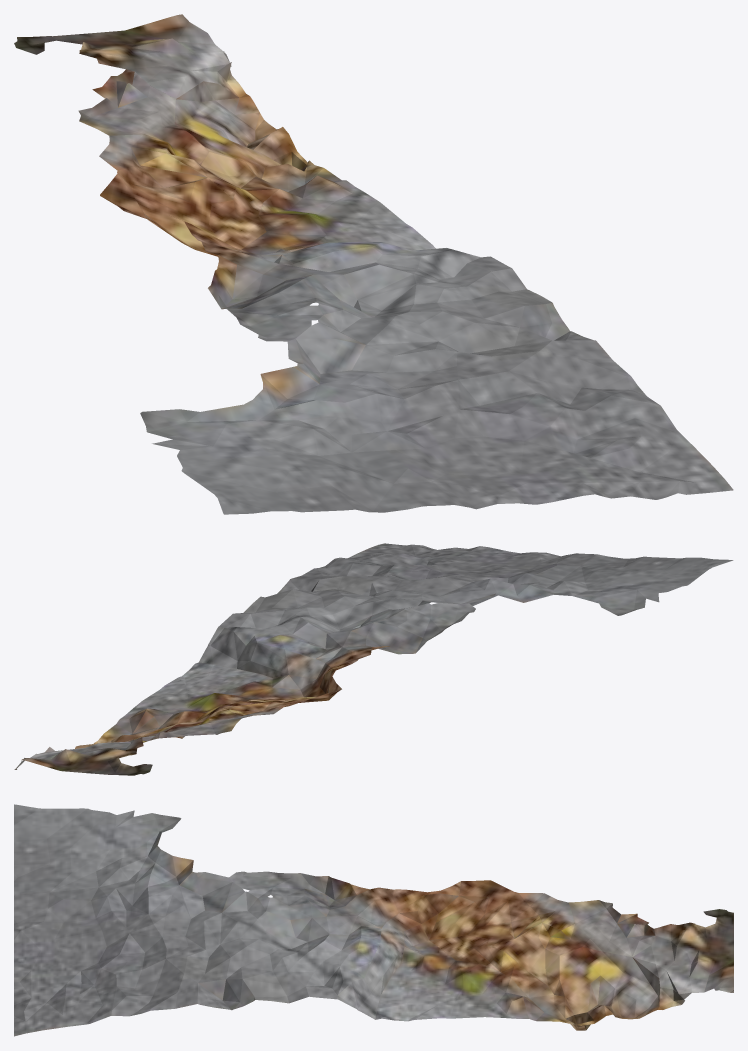
3 renders of one model, top to bottom at view 1: azimuth 30°, elevation 25°; view 2: azimuth 150°, elevation 25°; view 3: azimuth 270°, elevation 25°, orthographic. The views are drawn at different scales.
Size of the model in its own units: 0.9109 by 0.1749 by 1.67.
Materials: 1 (1 with a texture image).
